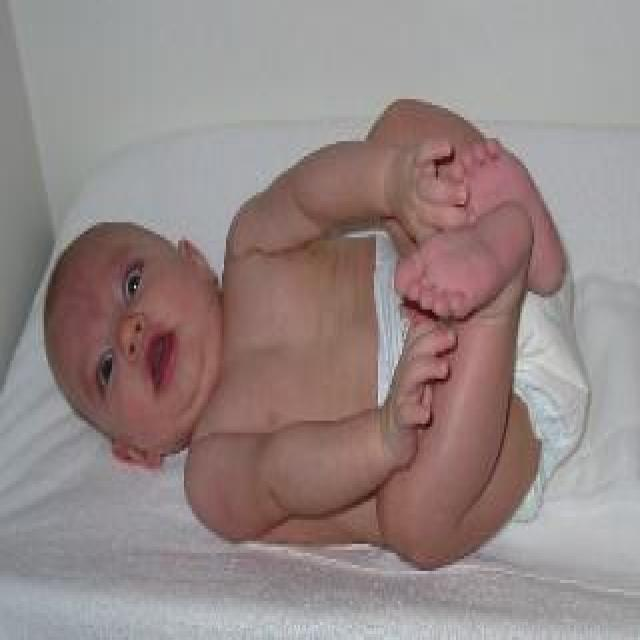person: (41, 97, 575, 572)
